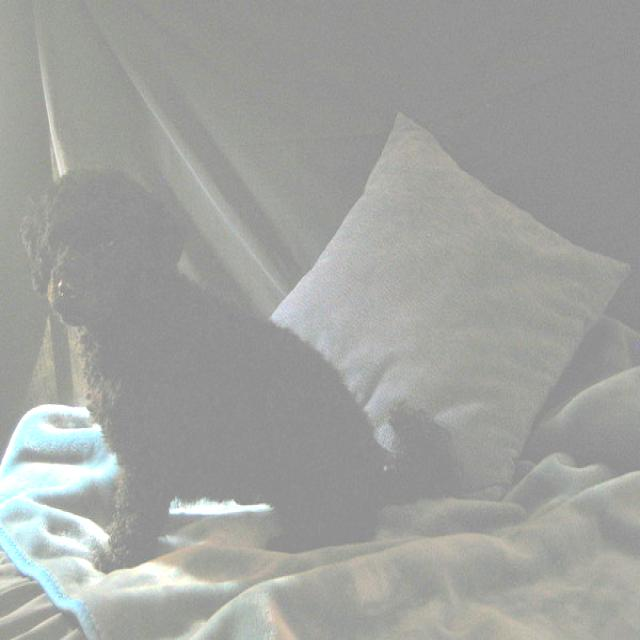Dog: (0, 130, 448, 637)
